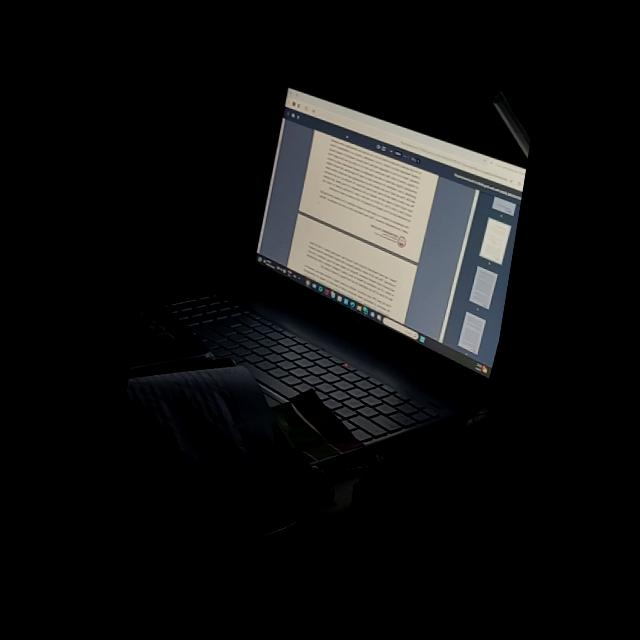laptop: (147, 63, 528, 437)
